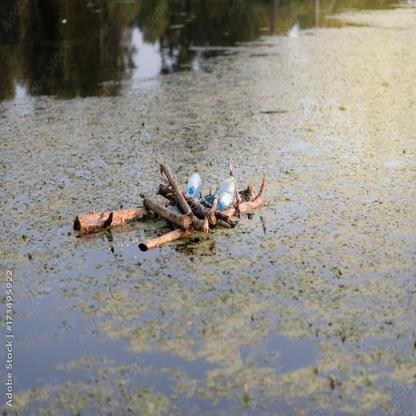plastic bottle: (217, 174, 238, 210), (189, 172, 200, 196)
